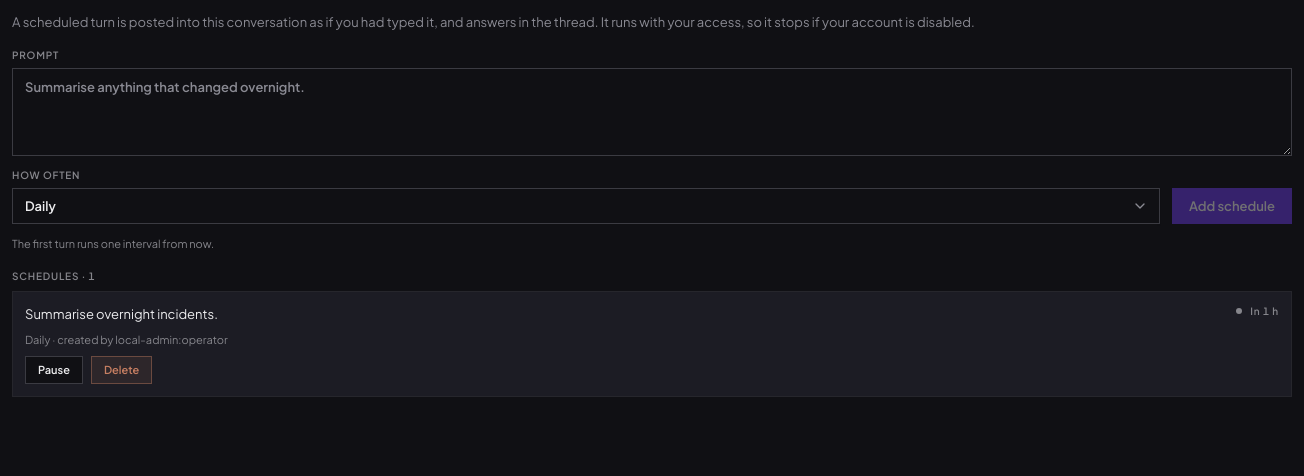
Test case: chat schedules › surfaces a refusal instead of leaving the row as though it had gone
This screenshot has width=1304, height=476.
Check: the text "Summarise overnight incidents." is shown, box [25, 304, 218, 324]
Click the button "Delete" at (122, 370), box [91, 356, 152, 384]
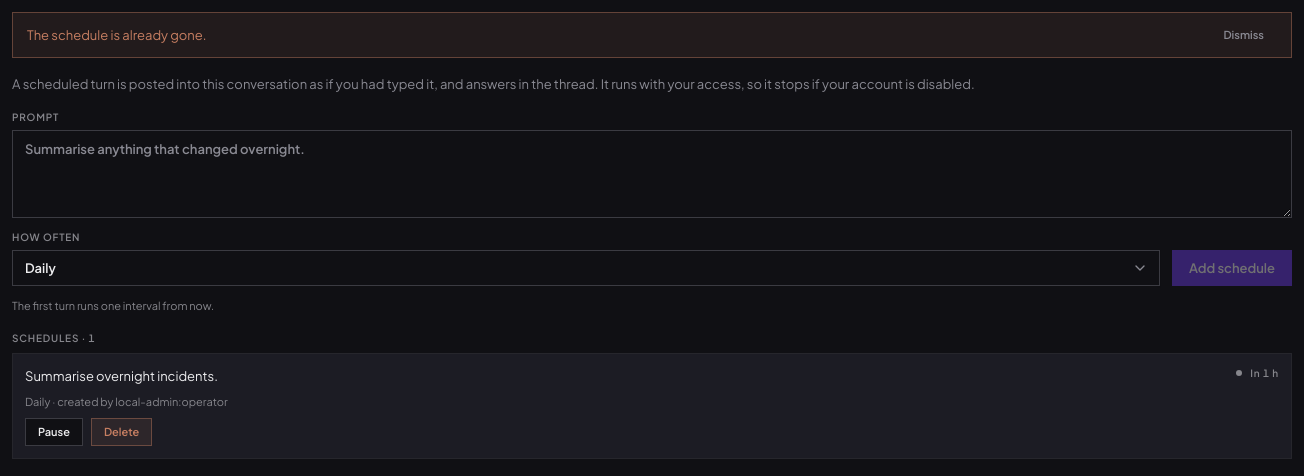
Check: the text "The schedule is already gone." is shown, box [27, 25, 206, 45]
